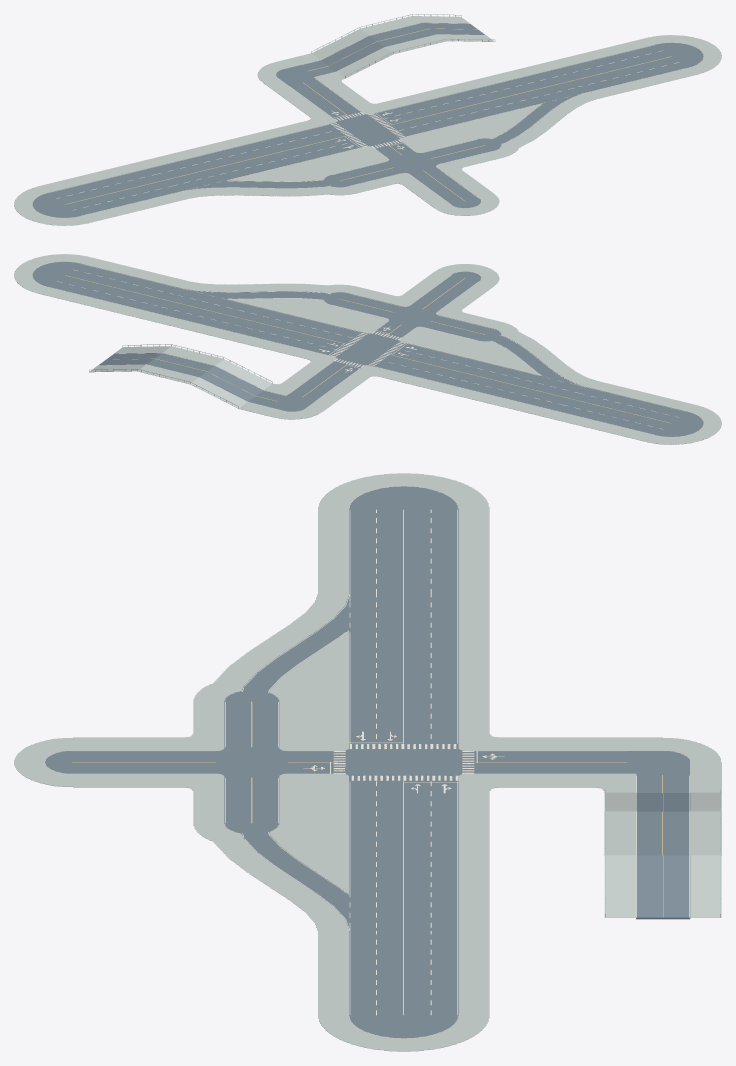
File: network-w68-s78.glb
3 views of the same model, one above another, from view 1: azimuth 30°, elevation 25°; view 2: azimuth 150°, elevation 25°; view 3: azimuth 270°, elevation 25° (orthographic). The views are drawn at different scales.
Visible parts, largest first — view 1: Road_surface, Sidewalks, Lane_markings, Ramp_surface, Crosswalks, Bridge_railings; view 2: Road_surface, Sidewalks, Lane_markings, Ramp_surface, Crosswalks, Bridge_railings; view 3: Road_surface, Sidewalks, Ramp_surface, Lane_markings, Crosswalks.
Boxes of the visible parts, bbox=[...] form: Road_surface: bbox=[32, 23, 703, 217]; Sidewalks: bbox=[14, 16, 721, 225]; Lane_markings: bbox=[49, 23, 686, 215]; Ramp_surface: bbox=[321, 23, 484, 71]; Crosswalks: bbox=[331, 112, 404, 148]; Bridge_railings: bbox=[311, 14, 495, 78]; Road_surface: bbox=[32, 262, 703, 436]; Sidewalks: bbox=[14, 254, 721, 444]; Lane_markings: bbox=[49, 264, 686, 434]; Ramp_surface: bbox=[99, 353, 262, 401]; Crosswalks: bbox=[330, 331, 405, 367]; Bridge_railings: bbox=[89, 344, 272, 408]; Road_surface: bbox=[45, 486, 689, 1038]; Sidewalks: bbox=[14, 473, 721, 1051]; Ramp_surface: bbox=[636, 793, 690, 919]; Lane_markings: bbox=[72, 509, 689, 1015]; Crosswalks: bbox=[333, 744, 474, 780].
Bounding box in the file's own units: 343 × 7.51 × 178.
